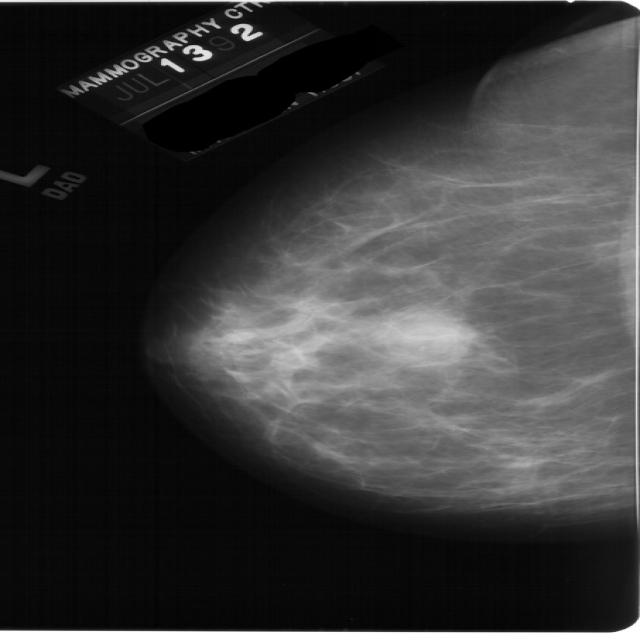tumour: (373, 306, 473, 365)
